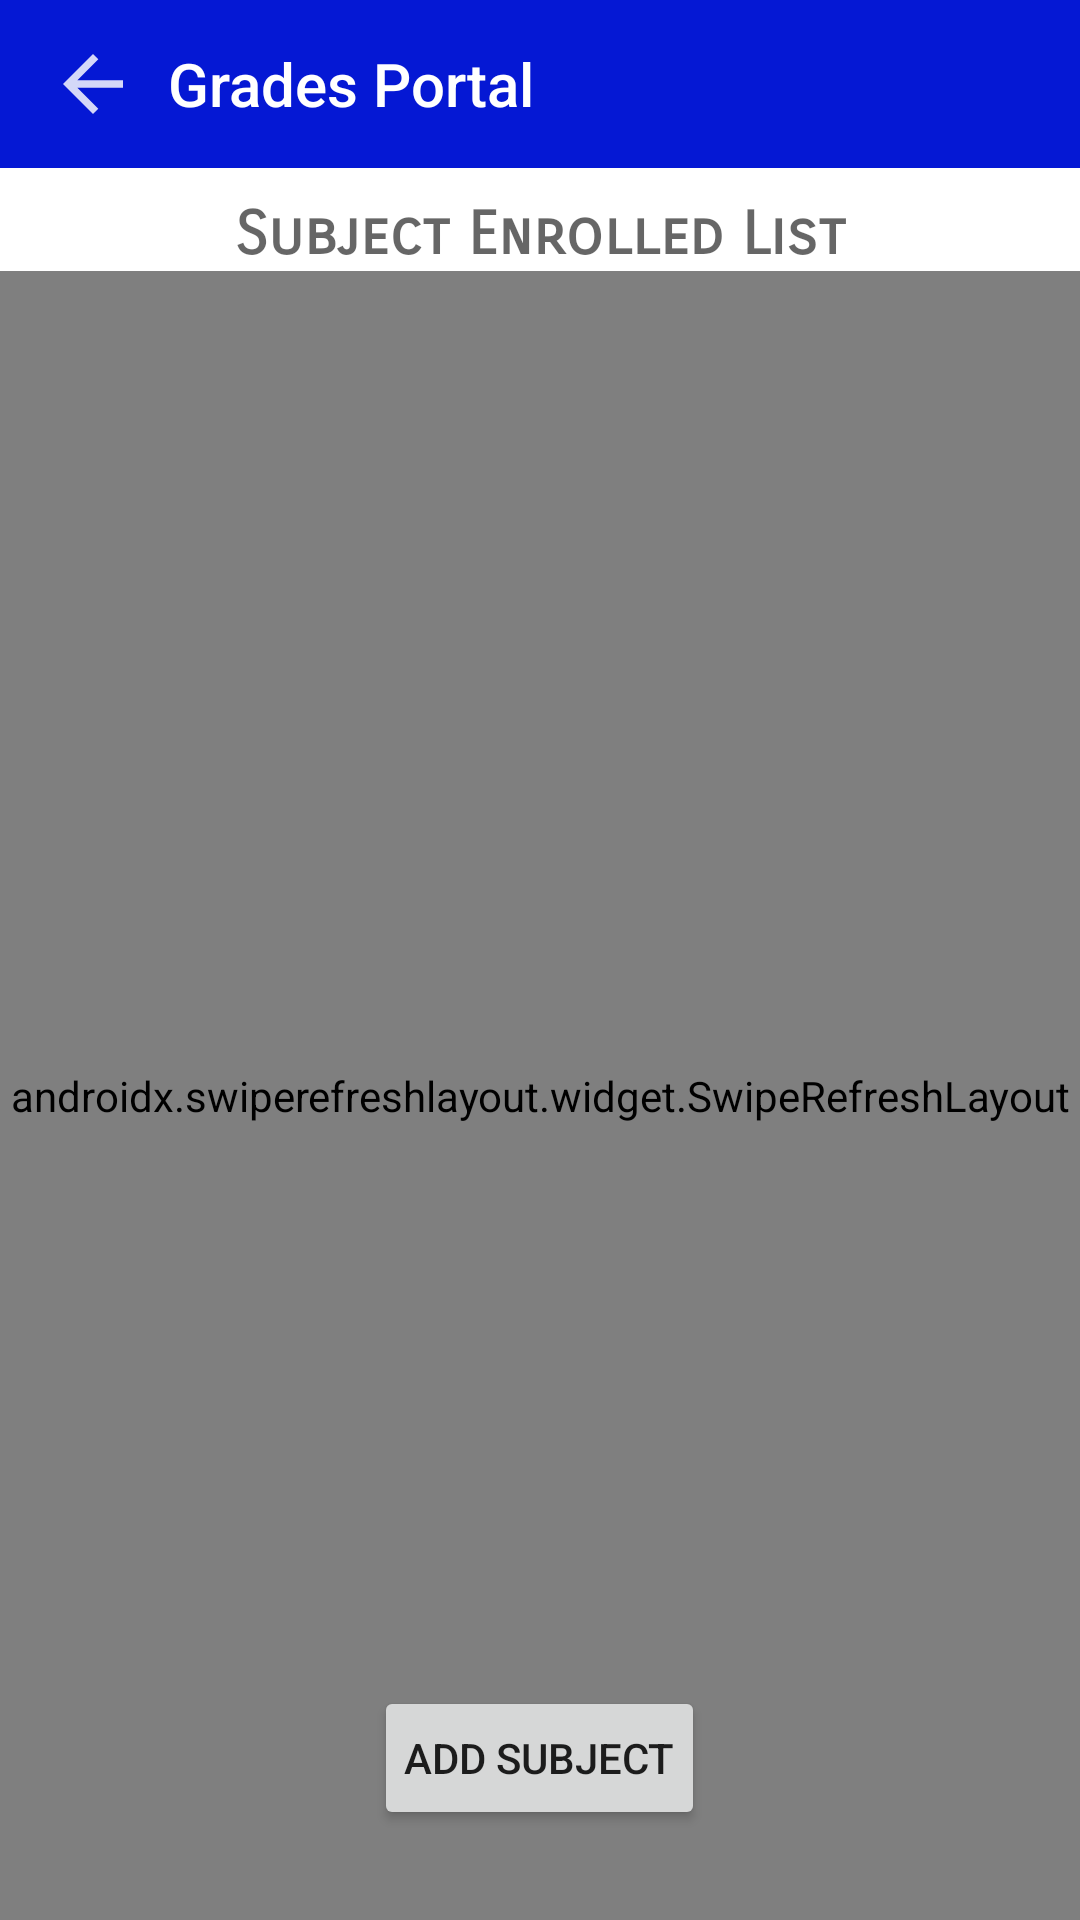

Point at icon controls on the screen. Image size 1080×1920, points as [x,y].
Back: [93,84]
